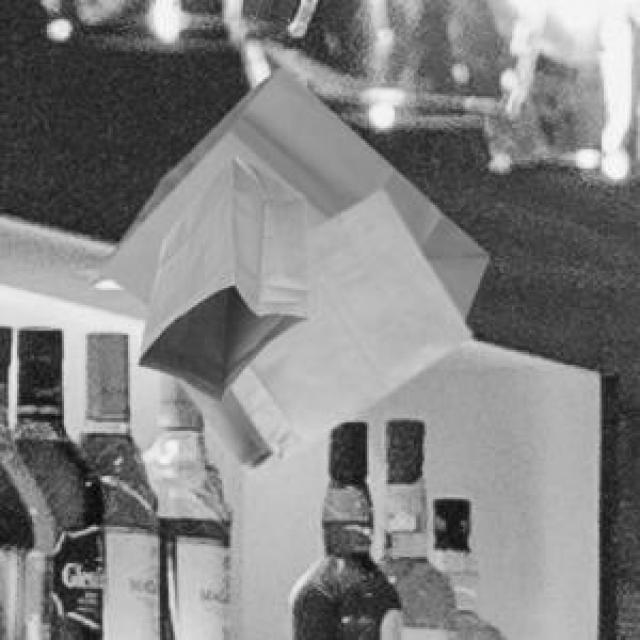paper: (98, 64, 484, 316), (175, 188, 467, 469), (134, 152, 305, 397)
